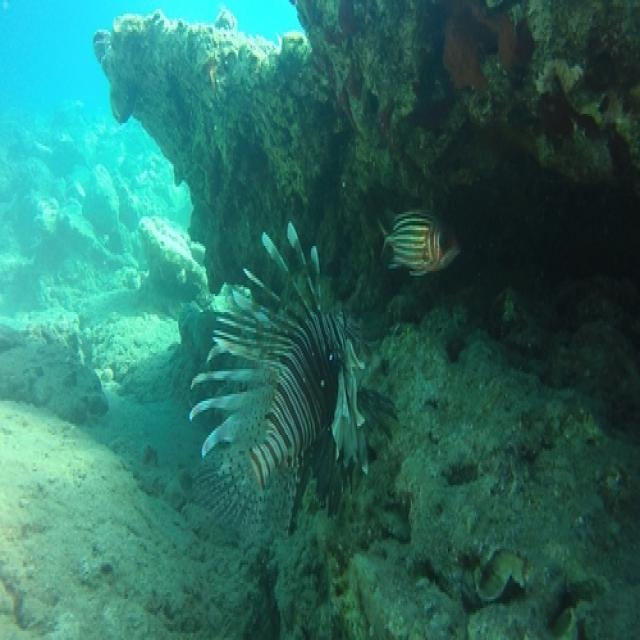Aslan Baligi: (186, 217, 400, 538)
